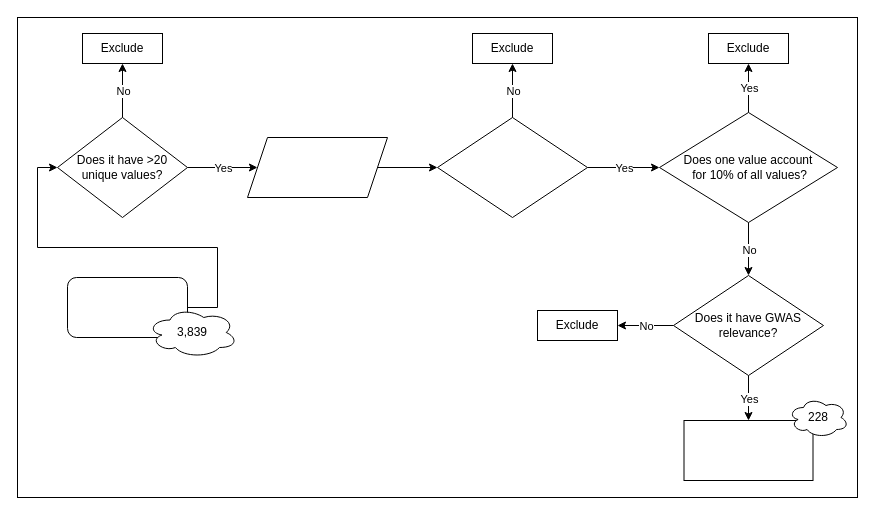
Image size: 875x515. Some labels were removed from this diagram. The shapes that lost their labels are listed below. From the top down, each one's box as (x1, y1, x2, y2) in pixels, then its label:
(246, 136, 388, 198): Remove values ±5 SD from the mean
(436, 116, 588, 218): Does it have >1000 total values?
(66, 276, 188, 338): All Variables (Baseline)
(683, 420, 813, 480): Phenotype file ready for GWAS
